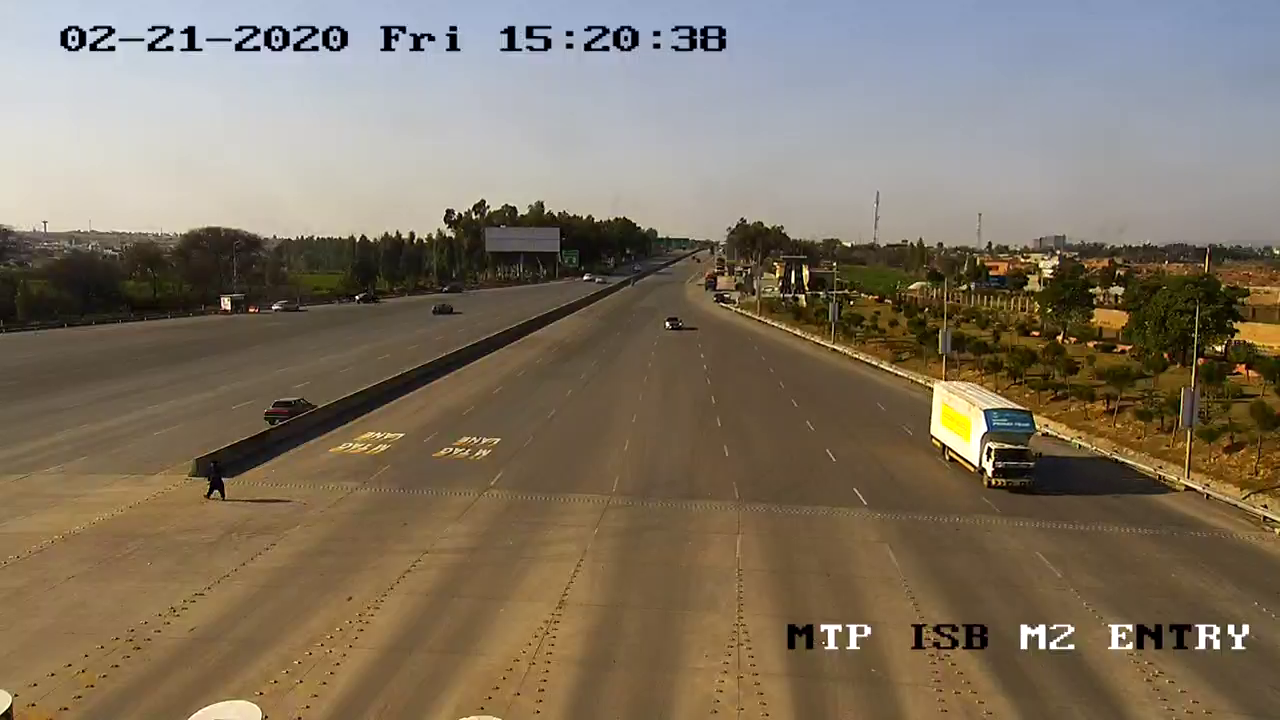f5: (925, 374, 1058, 502)
